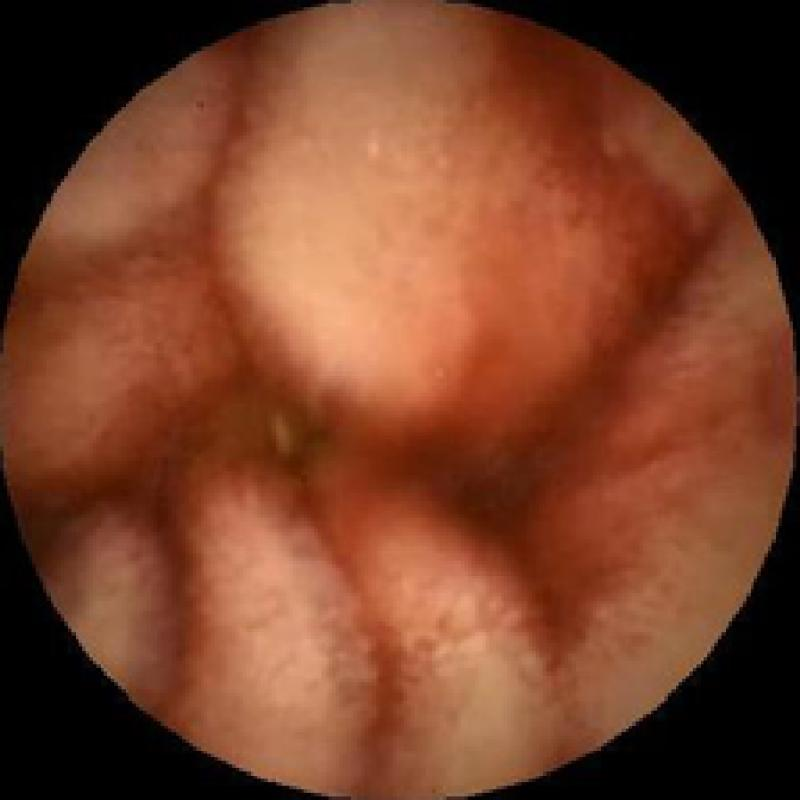bleeding: (125, 46, 646, 743)
